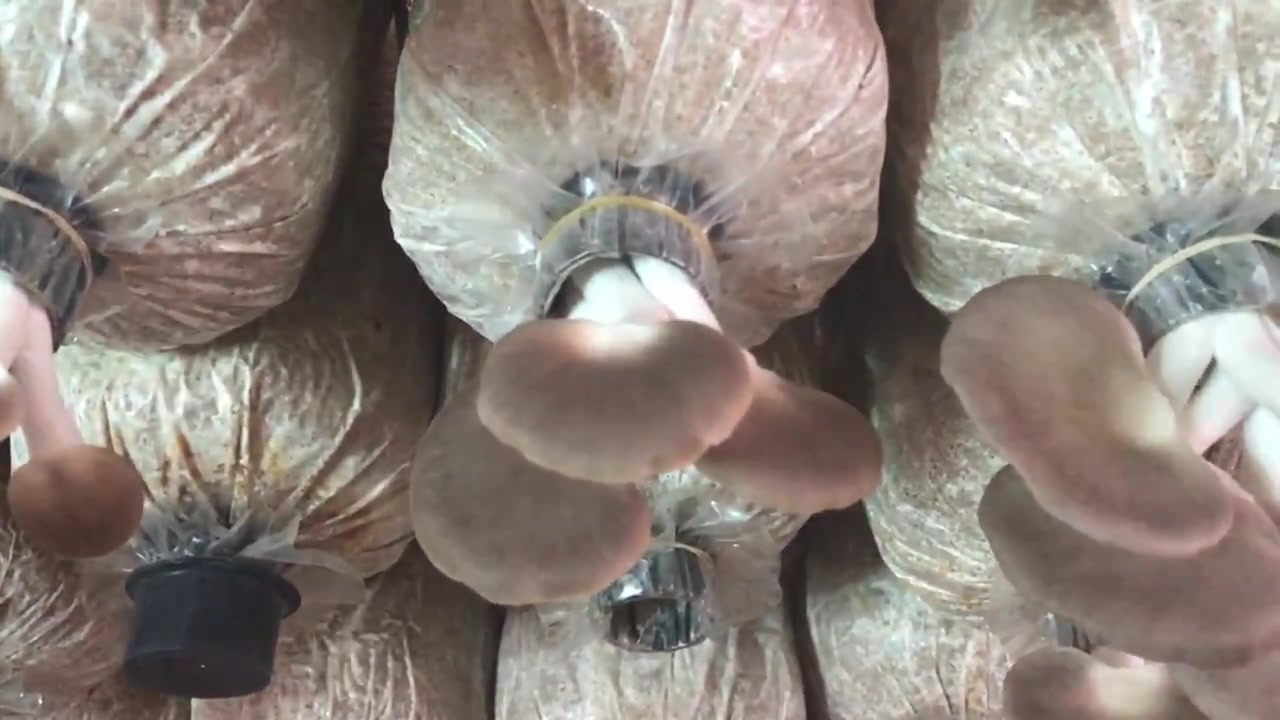nam: (414, 202, 881, 603), (942, 253, 1279, 671), (1, 192, 146, 556), (1003, 649, 1280, 718)
